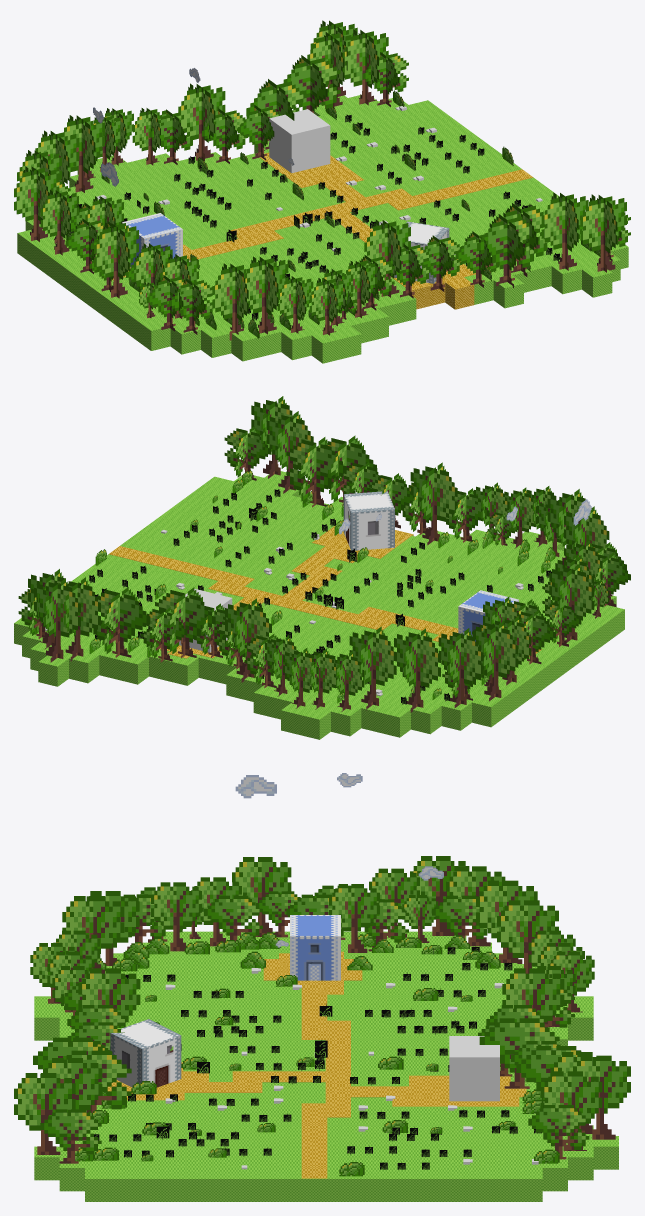
The model's file is Pruebas3.fbx.
3 views of the same model, one above another, from view 1: azimuth 30°, elevation 25°; view 2: azimuth 150°, elevation 25°; view 3: azimuth 270°, elevation 25° (orthographic). The views are drawn at different scales.
Parts seen in each view (by area): view 1: Cube.025, Cube.020, Cube.019, Cube.018, Cube, Cube.007, Cube.009, Cube.011, Cube.010, Cube.006, Cube.021, Cube.008 (+62 smaller); view 2: Cube.025, Cube.019, Cube.007, Cube.018, Cube.020, Cube.009, Cube.006, Cube.010, Cube.021, Cube.022, Cube.024, Cube.016 (+62 smaller); view 3: Cube.024, Cube.021, Cube.020, Cube.019, Cube.007, Cube.017, Cube.006, Cube.022, Cube.016, Cube.018, Cube.023, Cube.008 (+63 smaller).
Part boxes in pixels (x1=…): Cube.025: x1=17, y1=229, x2=170, y2=350; Cube.020: x1=348, y1=94, x2=612, y2=297; Cube.019: x1=319, y1=95, x2=581, y2=294; Cube.018: x1=314, y1=104, x2=551, y2=290; Cube: x1=269, y1=109, x2=330, y2=173; Cube.007: x1=97, y1=155, x2=361, y2=358; Cube.009: x1=154, y1=153, x2=388, y2=341; Cube.011: x1=204, y1=152, x2=416, y2=323; Cube.010: x1=177, y1=157, x2=396, y2=325; Cube.006: x1=77, y1=160, x2=341, y2=363; Cube.021: x1=378, y1=98, x2=620, y2=281; Cube.008: x1=127, y1=158, x2=369, y2=343; Cube.025: x1=472, y1=605, x2=624, y2=727; Cube.019: x1=38, y1=486, x2=301, y2=686; Cube.007: x1=281, y1=531, x2=540, y2=734; Cube.018: x1=69, y1=495, x2=302, y2=683; Cube.020: x1=30, y1=471, x2=286, y2=670; Cube.009: x1=253, y1=529, x2=485, y2=717; Cube.006: x1=300, y1=536, x2=564, y2=739; Cube.010: x1=245, y1=533, x2=462, y2=701; Cube.021: x1=22, y1=473, x2=263, y2=658; Cube.022: x1=343, y1=491, x2=394, y2=550; Cube.024: x1=14, y1=476, x2=233, y2=645; Cube.016: x1=118, y1=496, x2=343, y2=684; Cube.024: x1=85, y1=1168, x2=542, y2=1201; Cube.021: x1=59, y1=1157, x2=567, y2=1191; Cube.020: x1=34, y1=1146, x2=593, y2=1180; Cube.019: x1=75, y1=1136, x2=618, y2=1169; Cube.007: x1=34, y1=1007, x2=593, y2=1040; Cube.017: x1=101, y1=1114, x2=535, y2=1125; Cube.006: x1=34, y1=996, x2=593, y2=1006; Cube.022: x1=110, y1=1019, x2=181, y2=1087; Cube.016: x1=86, y1=1103, x2=535, y2=1114; Cube.018: x1=86, y1=1125, x2=593, y2=1135; Cube.023: x1=290, y1=915, x2=340, y2=980; Cube.008: x1=59, y1=1017, x2=567, y2=1028.
Size of the model in its own units: 2379 by 880 by 2427.
10 materials, 10 textured.
